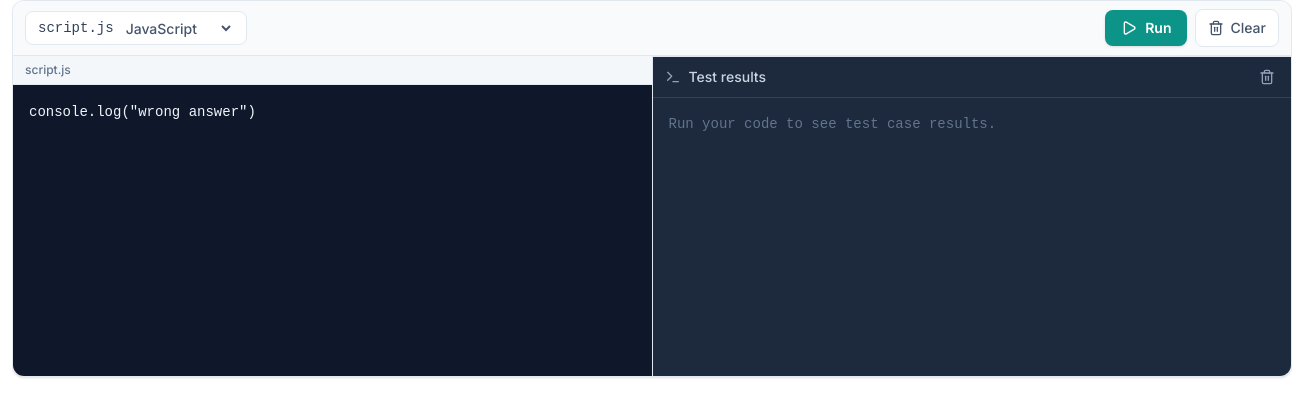
it: CodeBlock › tests mode › shows failed test result when output does not match expected
Click the button "Run": (1146, 28) [1105,10,1188,46]
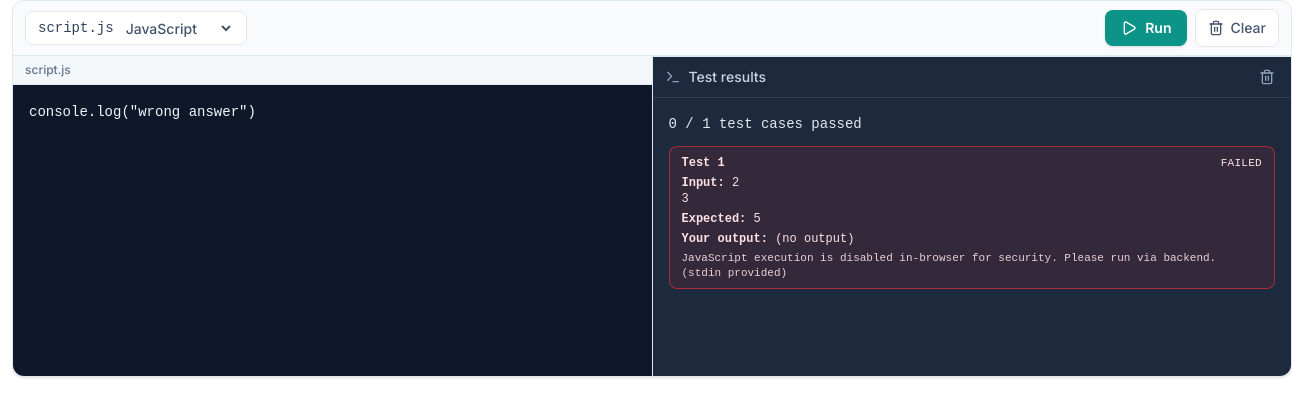
Expected: the text "Failed" is shown, [1221,156,1262,170]
